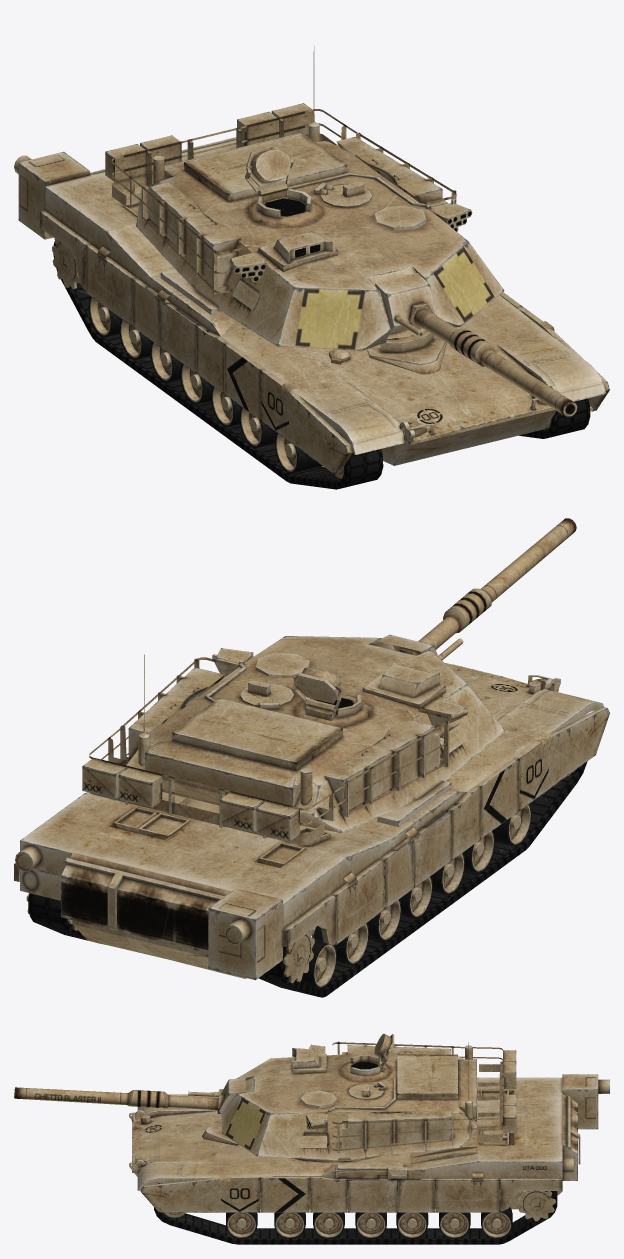
File: TanKeSunHuai.glb
The picture shows the model from 3 angles, top to bottom: view 1: azimuth 30°, elevation 25°; view 2: azimuth 150°, elevation 25°; view 3: azimuth 270°, elevation 25°; orthographic projection. The views are drawn at different scales.
Visible parts, largest first — view 1: M1A2主战坦克; view 2: M1A2主战坦克; view 3: M1A2主战坦克.
Boxes of the visible parts, x1,y1,x2,y2 form: M1A2主战坦克: (14, 46, 609, 489); M1A2主战坦克: (14, 518, 609, 997); M1A2主战坦克: (14, 1033, 609, 1244).
Bounding box in the file's own units: 3.34 × 3.56 × 9.49.
1 material, 1 textured.
